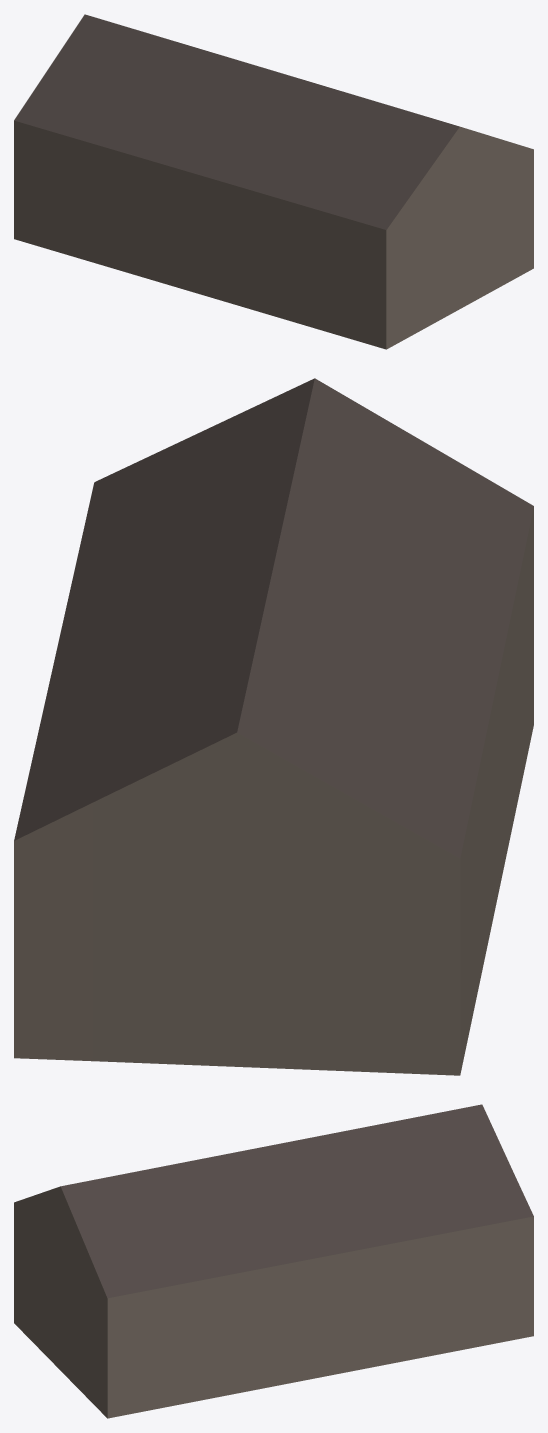
The picture shows the model from 3 angles, top to bottom: view 1: azimuth 30°, elevation 25°; view 2: azimuth 150°, elevation 25°; view 3: azimuth 270°, elevation 25°; orthographic projection. The views are drawn at different scales.
Visible parts, largest first — view 1: HP-w1200772468; view 2: HP-w1200772468; view 3: HP-w1200772468.
Boxes of the visible parts, left/top/right/bottom form: HP-w1200772468: left=14, top=14, right=533, bottom=349; HP-w1200772468: left=14, top=378, right=533, bottom=1075; HP-w1200772468: left=14, top=1104, right=533, bottom=1418.
Bounding box in the file's own units: 19.06 × 9.24 × 23.62.
